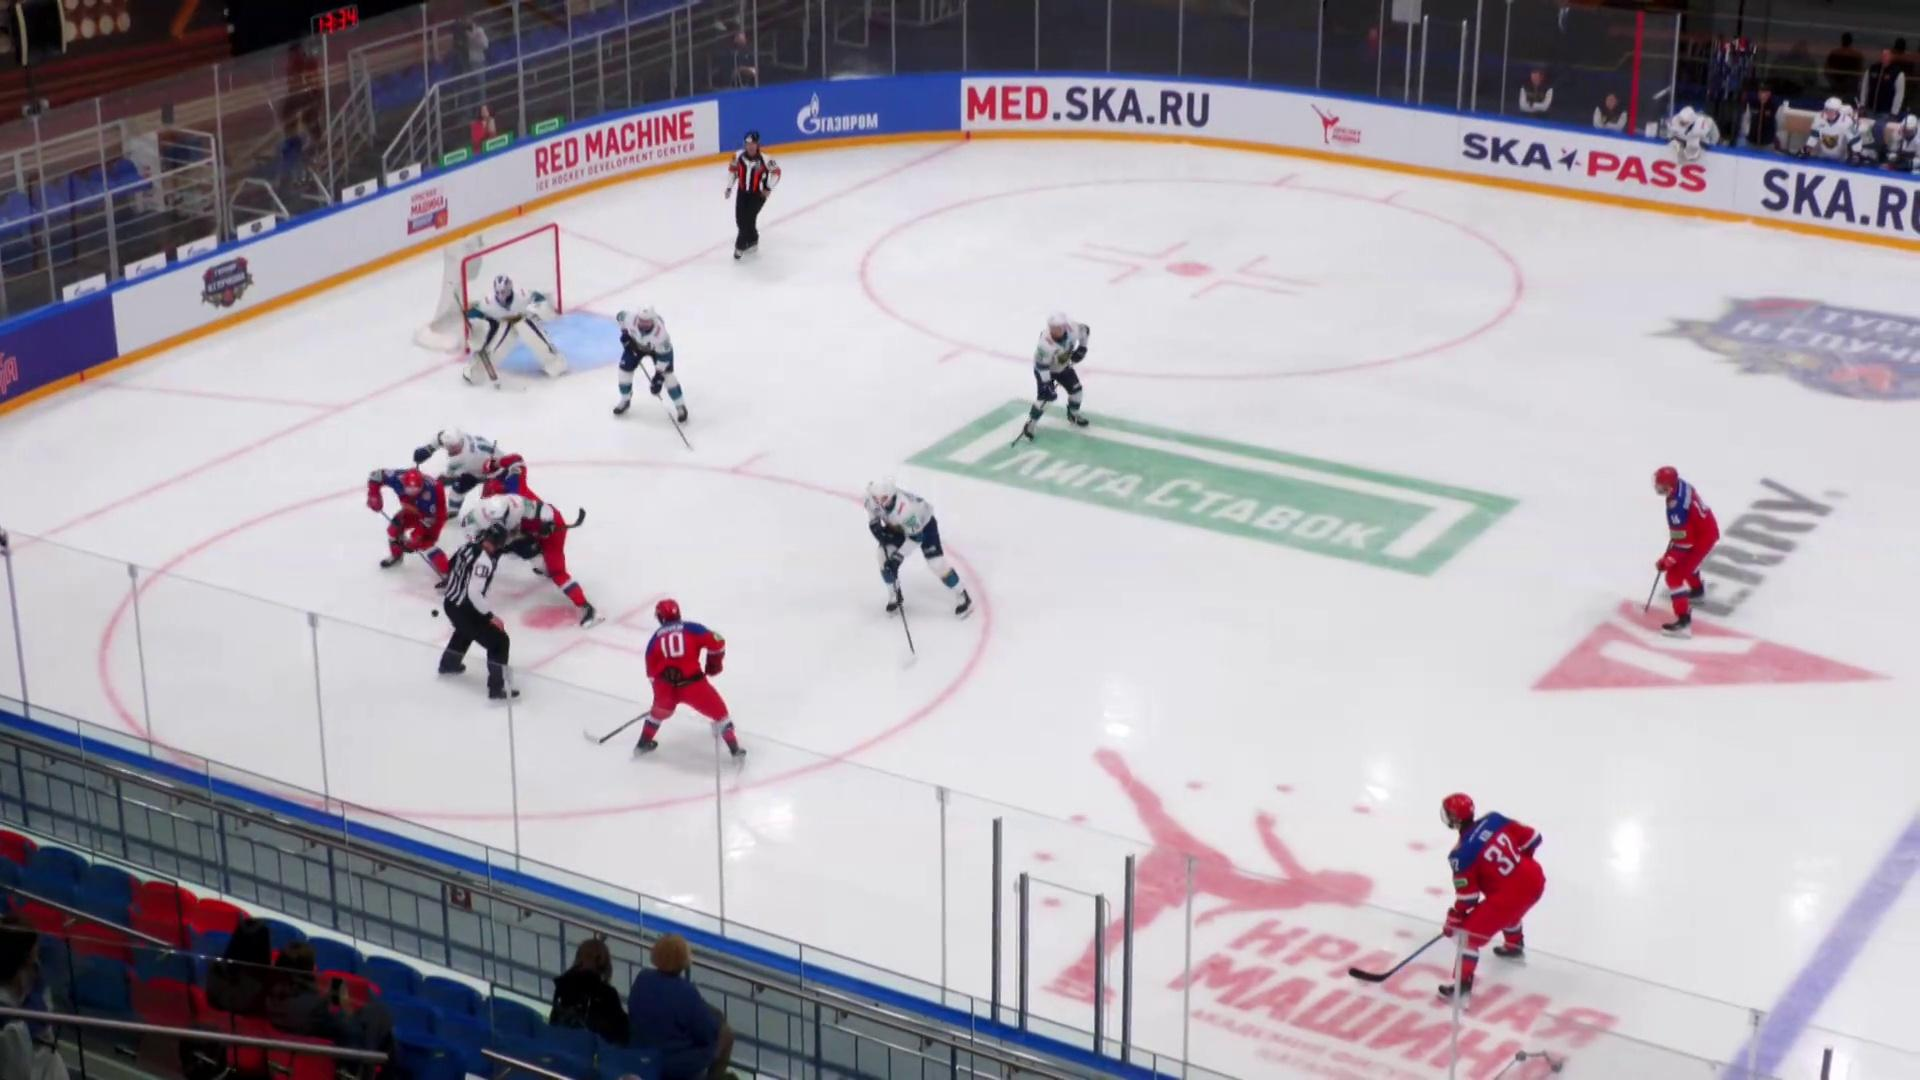ball: (431, 608, 439, 620)
